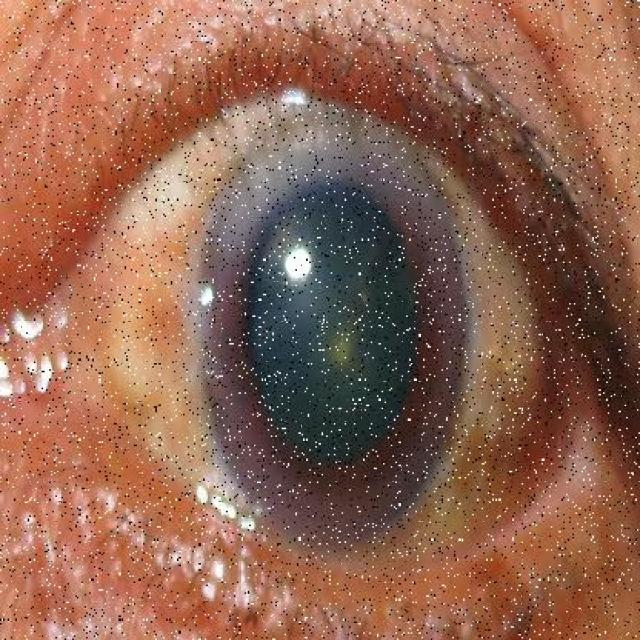Cataract: (141, 79, 522, 576)
